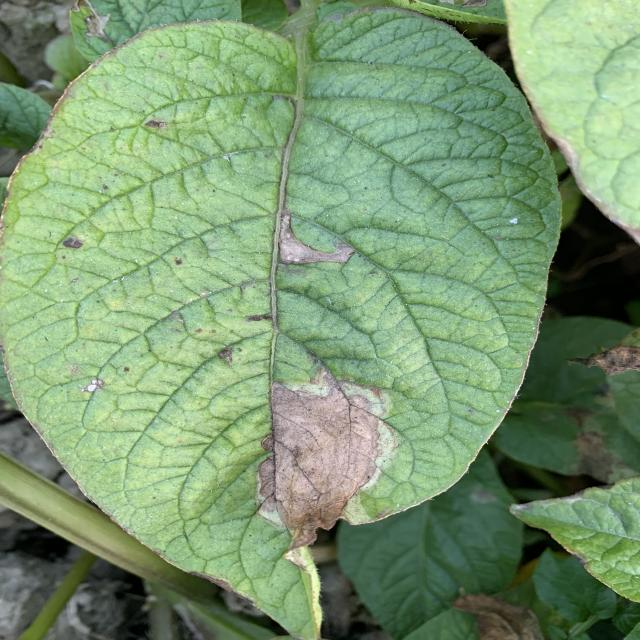lateblight: (258, 368, 398, 549), (278, 210, 355, 264)
